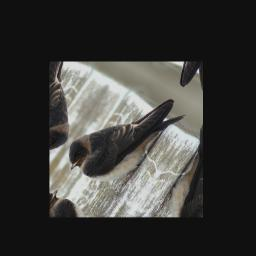Swallow: (58, 69, 191, 204)
